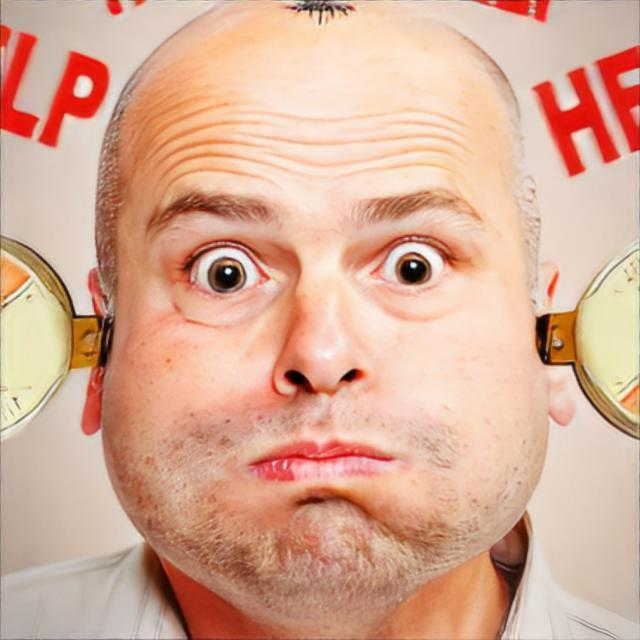fear: (112, 90, 545, 622)
